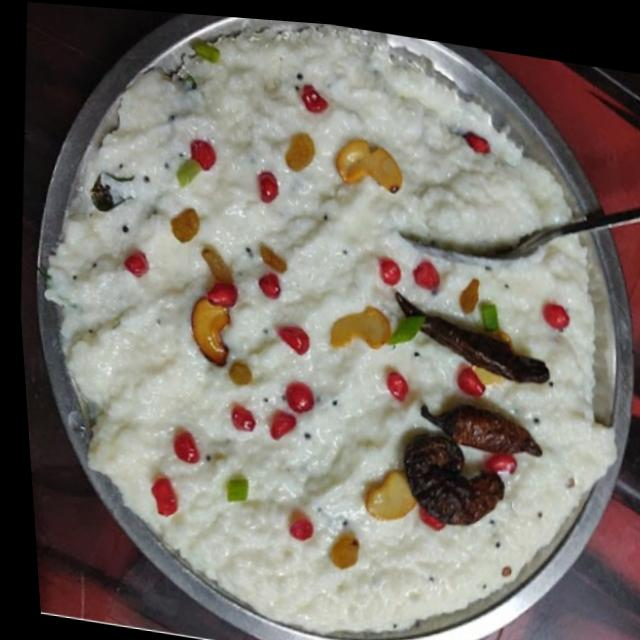CURD RICE: (42, 27, 618, 633)
